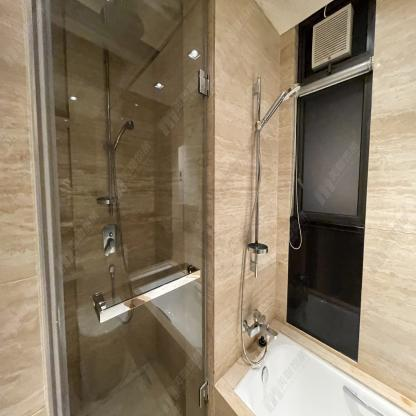Bathtub: (214, 317, 416, 416)
Exhaust Fan: (312, 3, 351, 71)
Water Cubicle: (24, 0, 215, 416)
